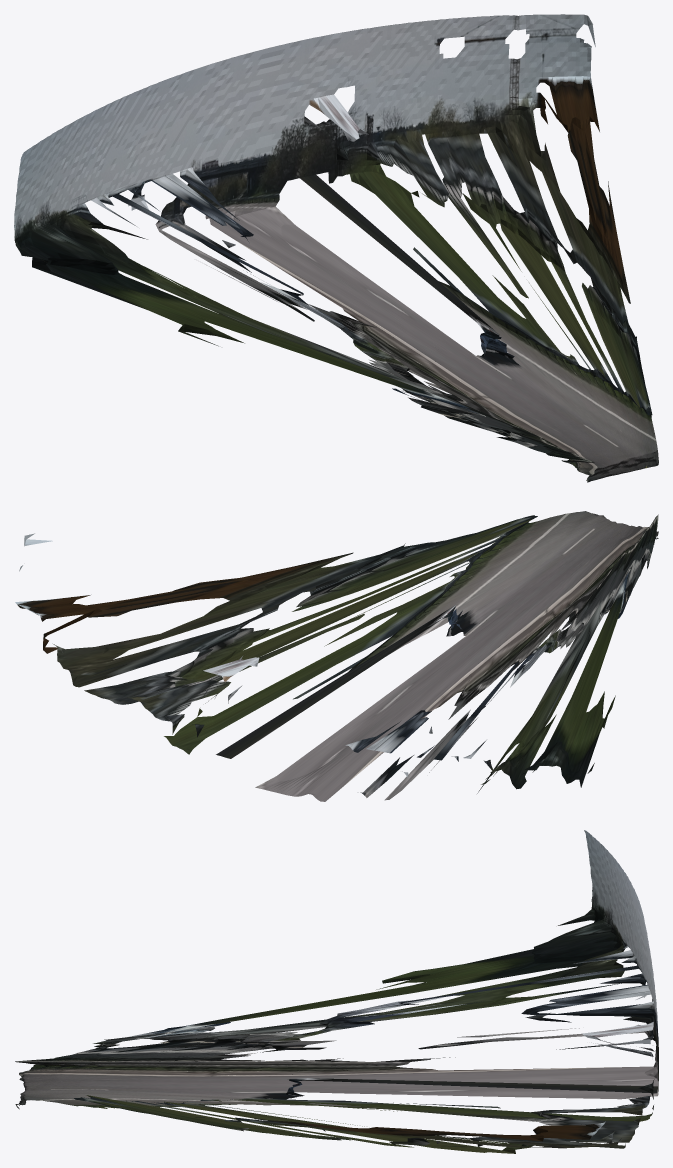
3 views of the same model, one above another, from view 1: azimuth 30°, elevation 25°; view 2: azimuth 150°, elevation 25°; view 3: azimuth 270°, elevation 25° (orthographic). The views are drawn at different scales.
Parts seen in each view (by area): view 1: defaultobject; view 2: defaultobject; view 3: defaultobject.
Part boxes in pixels (x1,y1,x2,y2): defaultobject: [14, 14, 658, 482]; defaultobject: [15, 511, 658, 801]; defaultobject: [15, 830, 658, 1153].
Size of the model in its own units: 41.02 by 11.75 by 44.57.
1 material, 1 textured.
